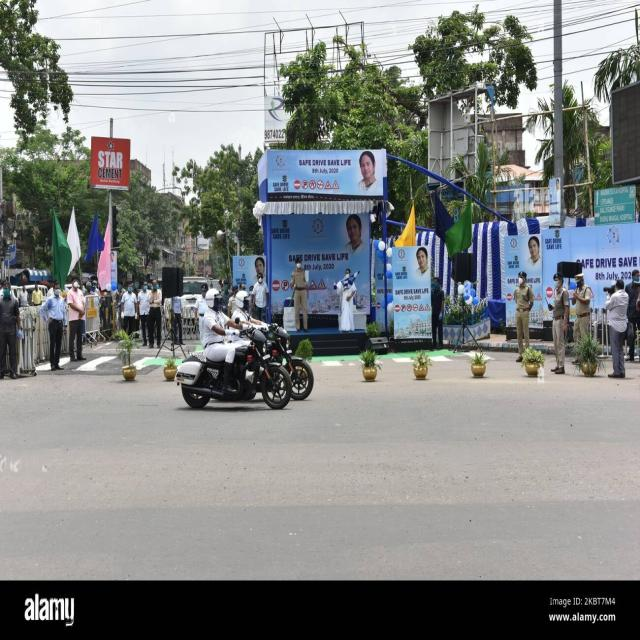motorcycle: (175, 289, 292, 409), (231, 290, 314, 401)
